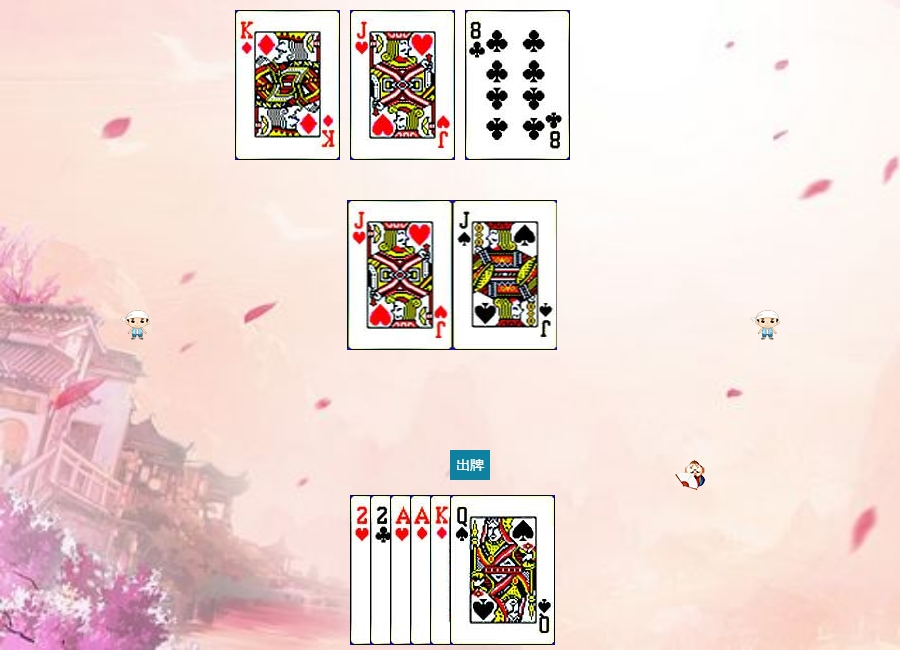11~3: (350, 10, 455, 160), (348, 200, 453, 350)
11~4: (453, 200, 558, 350)
12~4: (450, 495, 555, 645)
13~1: (235, 10, 340, 160), (430, 495, 535, 645)
14~1: (410, 495, 515, 645)
14~3: (390, 495, 495, 645)
15~2: (370, 495, 475, 645)
15~3: (350, 495, 455, 645)
8~2: (465, 10, 570, 160)
